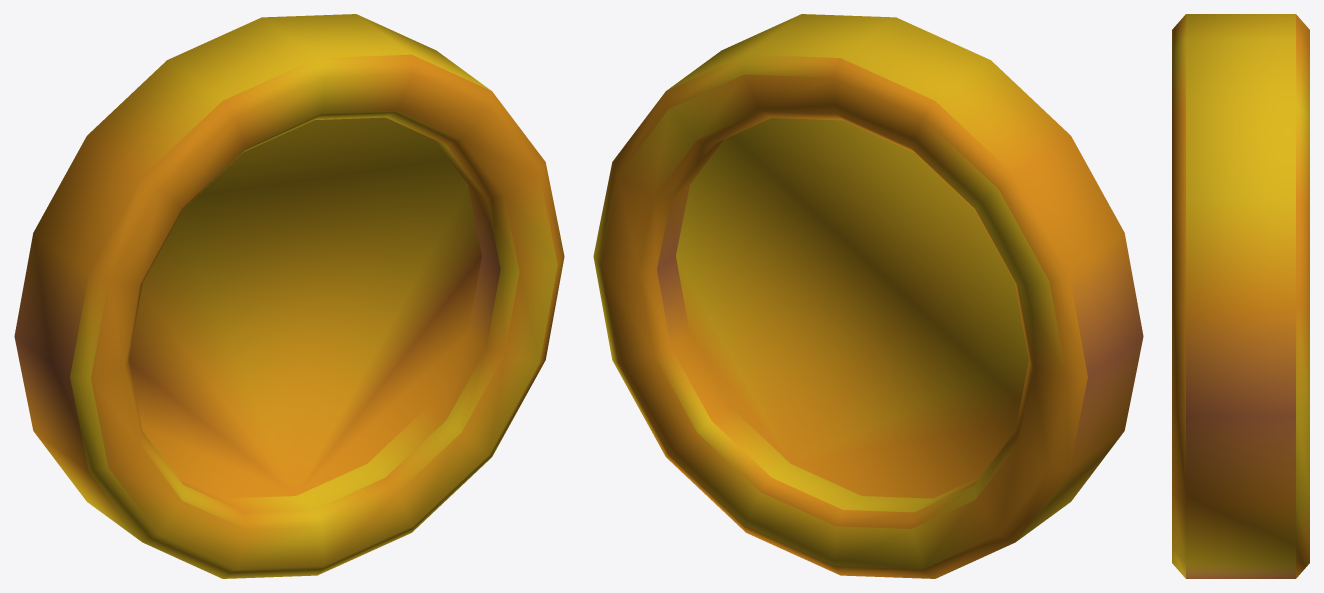
File: bonus-coin.fbx
3 renders of one model, left to right at view 1: azimuth 30°, elevation 25°; view 2: azimuth 150°, elevation 25°; view 3: azimuth 270°, elevation 25°, orthographic.
Parts seen in each view (by area): view 1: coin; view 2: coin; view 3: coin.
Part boxes in pixels (x1,y1,x2,y2): coin: (14,14,564,578); coin: (593,14,1143,578); coin: (1172,14,1309,578).
Size of the model in its own units: 100 by 100 by 24.37.
